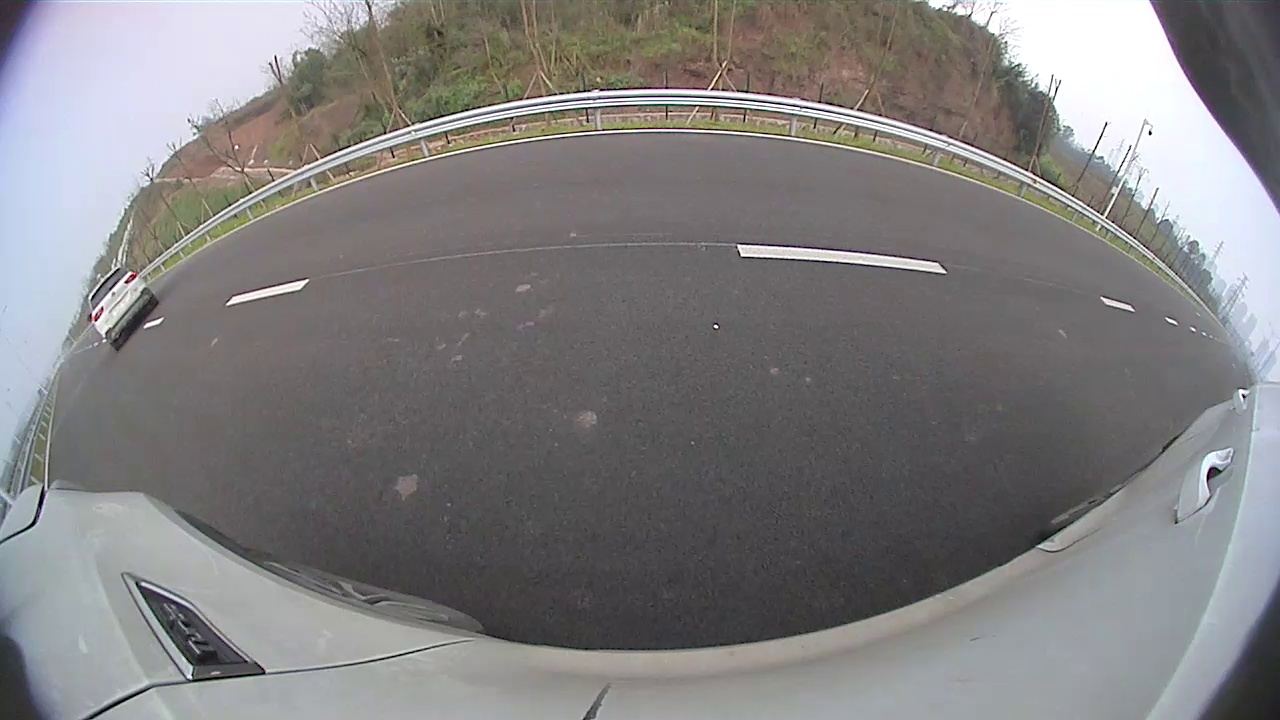car: (473, 150, 556, 208)
front: (546, 177, 556, 196)
rear: (531, 178, 540, 202)
